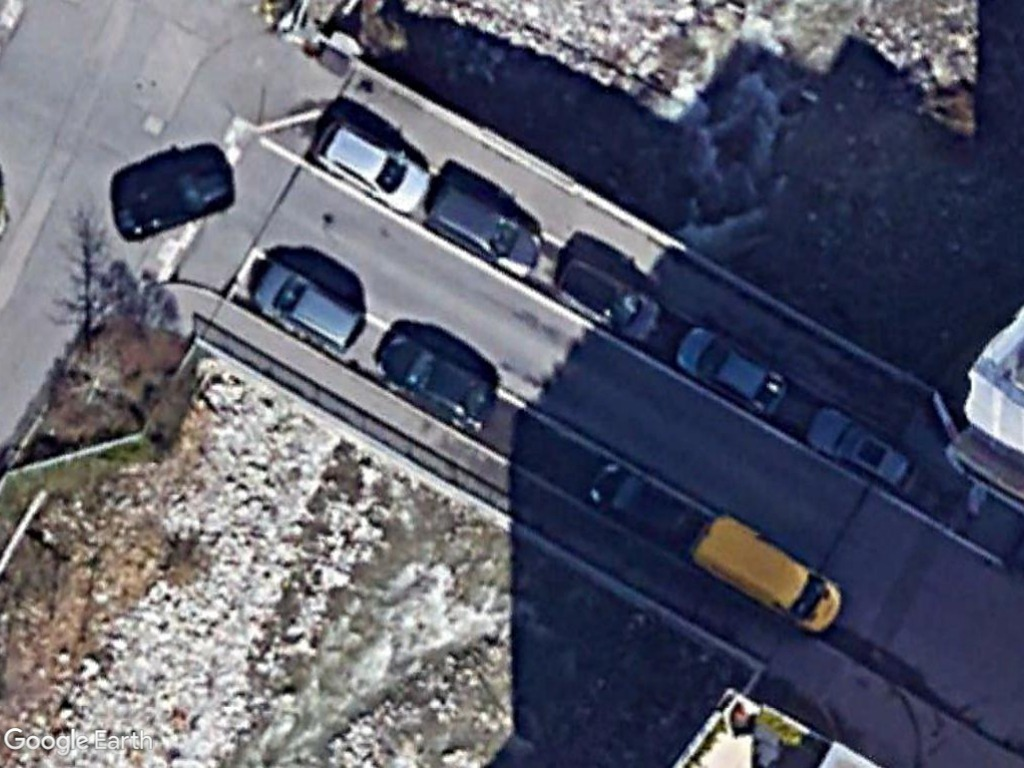car: (379, 329, 500, 432), (559, 252, 678, 355), (425, 182, 548, 278), (803, 400, 922, 498), (676, 323, 794, 421), (313, 120, 433, 216), (248, 259, 369, 354), (114, 158, 237, 243)
van: (690, 514, 846, 637)
